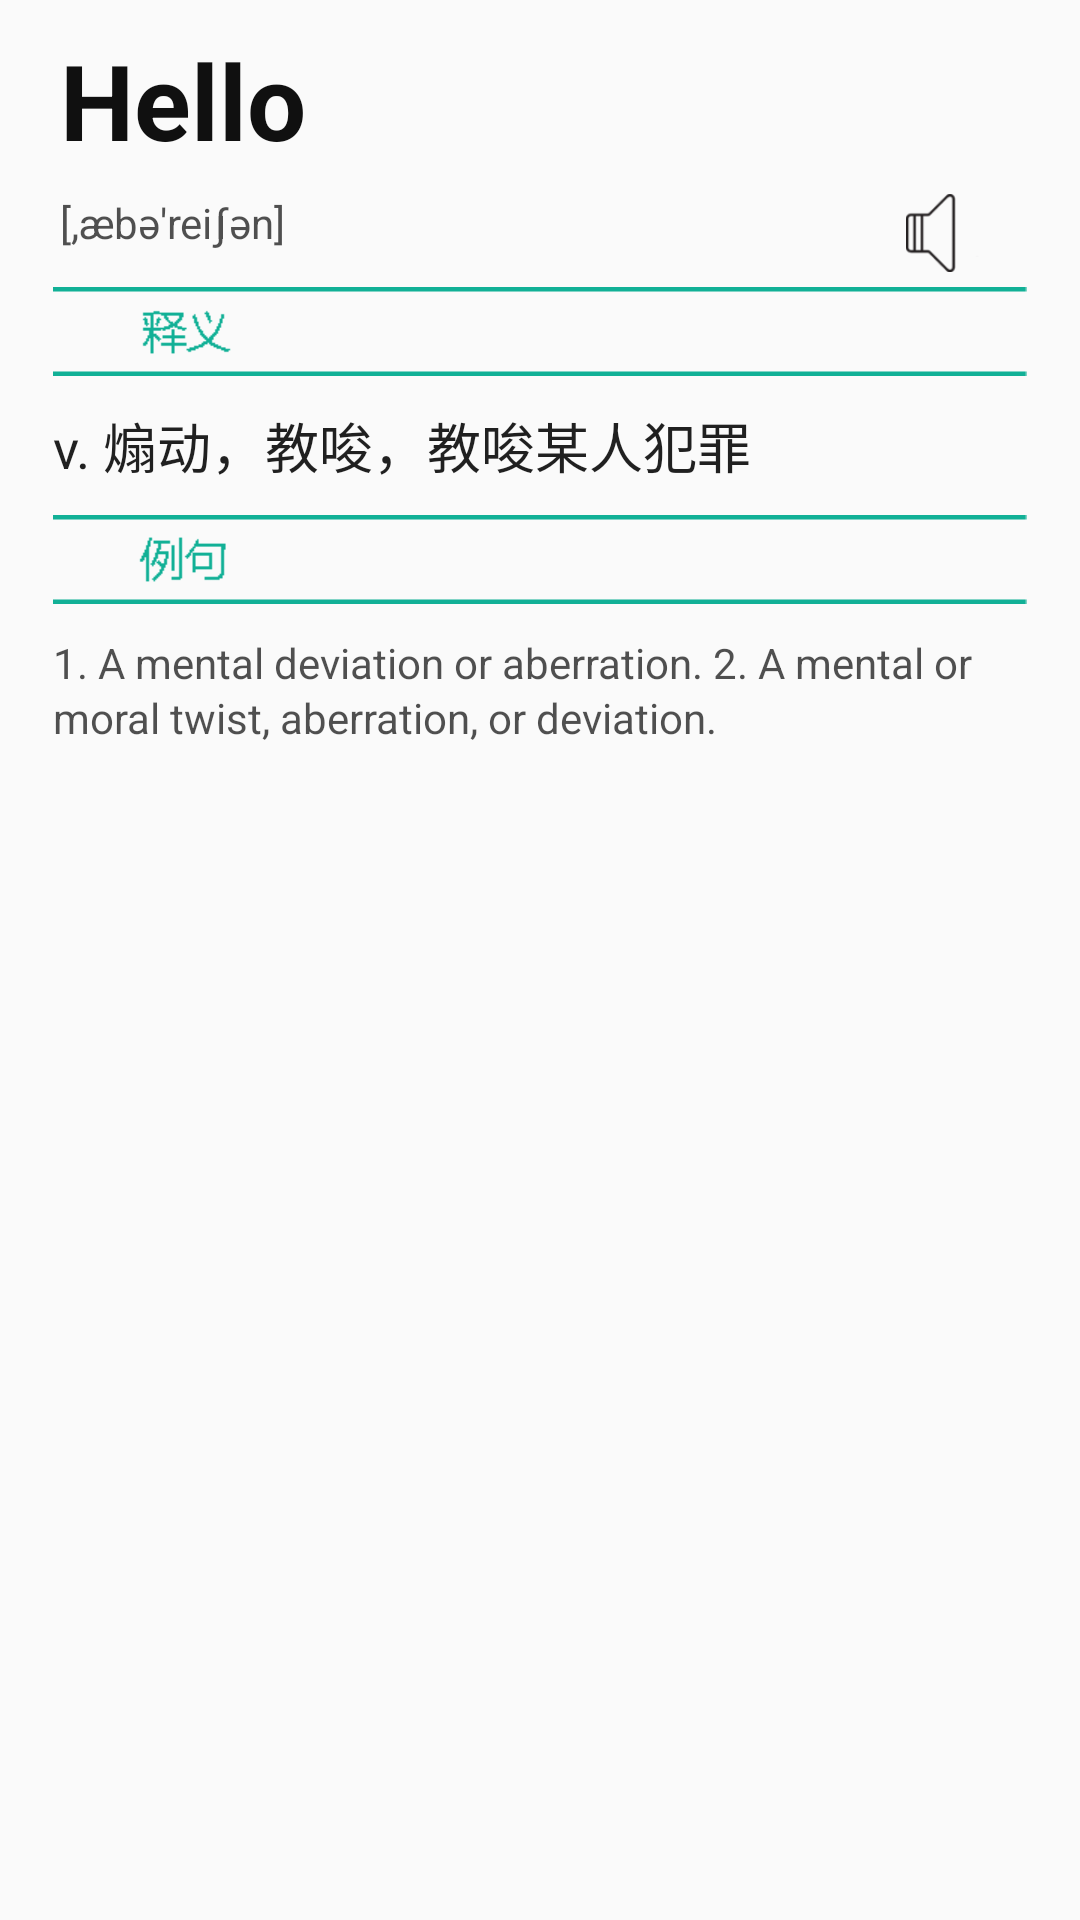

Icons on this 1080*1920 Android screen, each with its box as (x1, y1, x2, y2):
speaker off: (906, 194, 956, 272)
